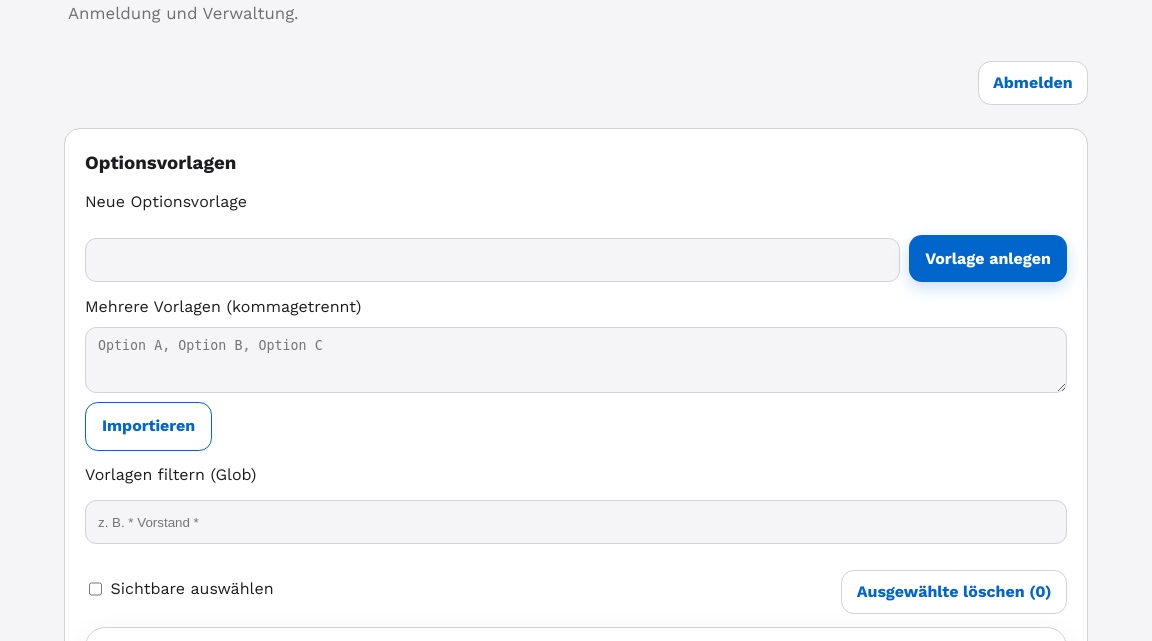
Test case: AdminPage session gate › serializes batch requests
expect the heading "Optionsvorlagen" is shown: met, box [85,152,236,174]
In the text box labelled "Mehrere Vorlagen (kommagetrennt)": (576, 360) [85,327,1067,394], type "one, two, three, four, five"
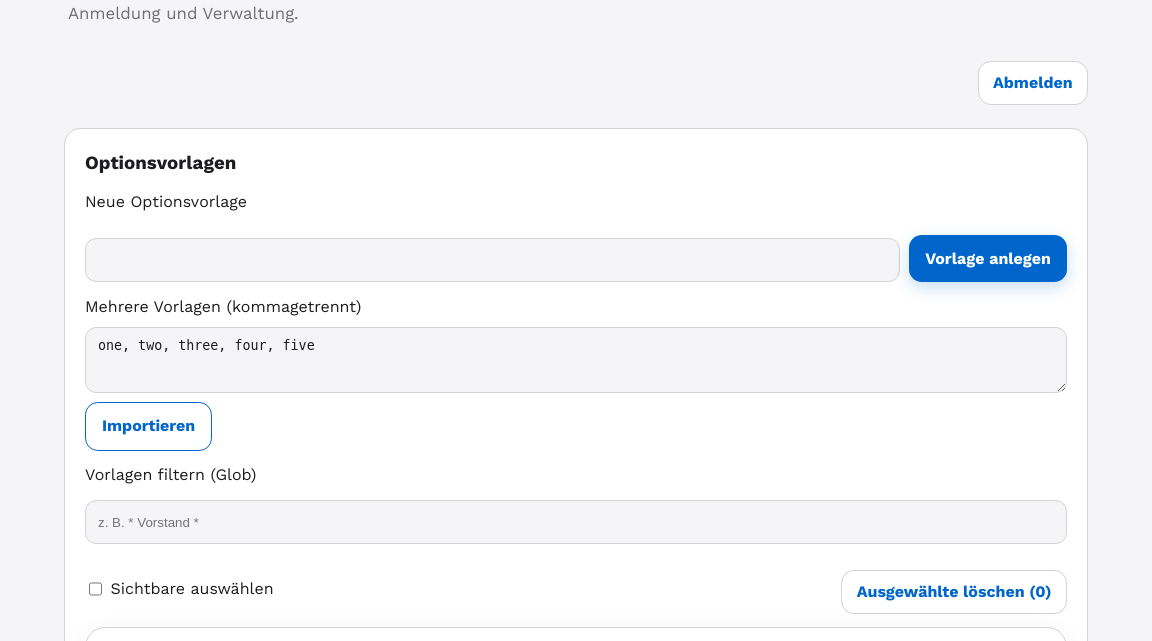
Click the button "Importieren": (149, 426) [85,402,212,451]
(page scrolled)
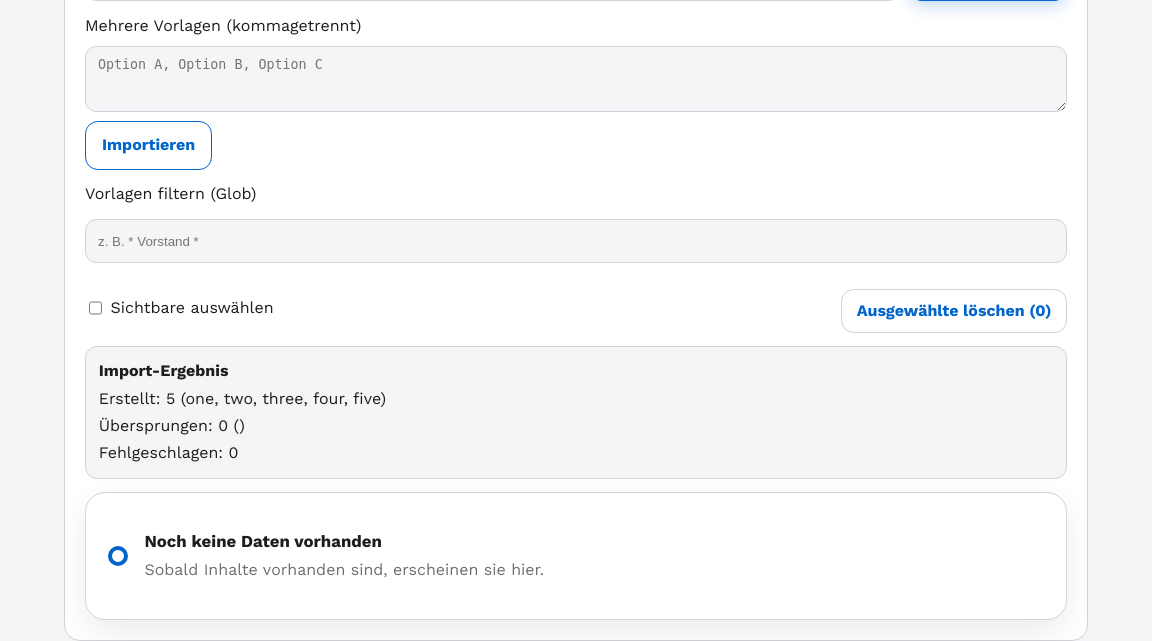
expect the text "Import-Ergebnis" is shown: met, box [99,361,228,380]
